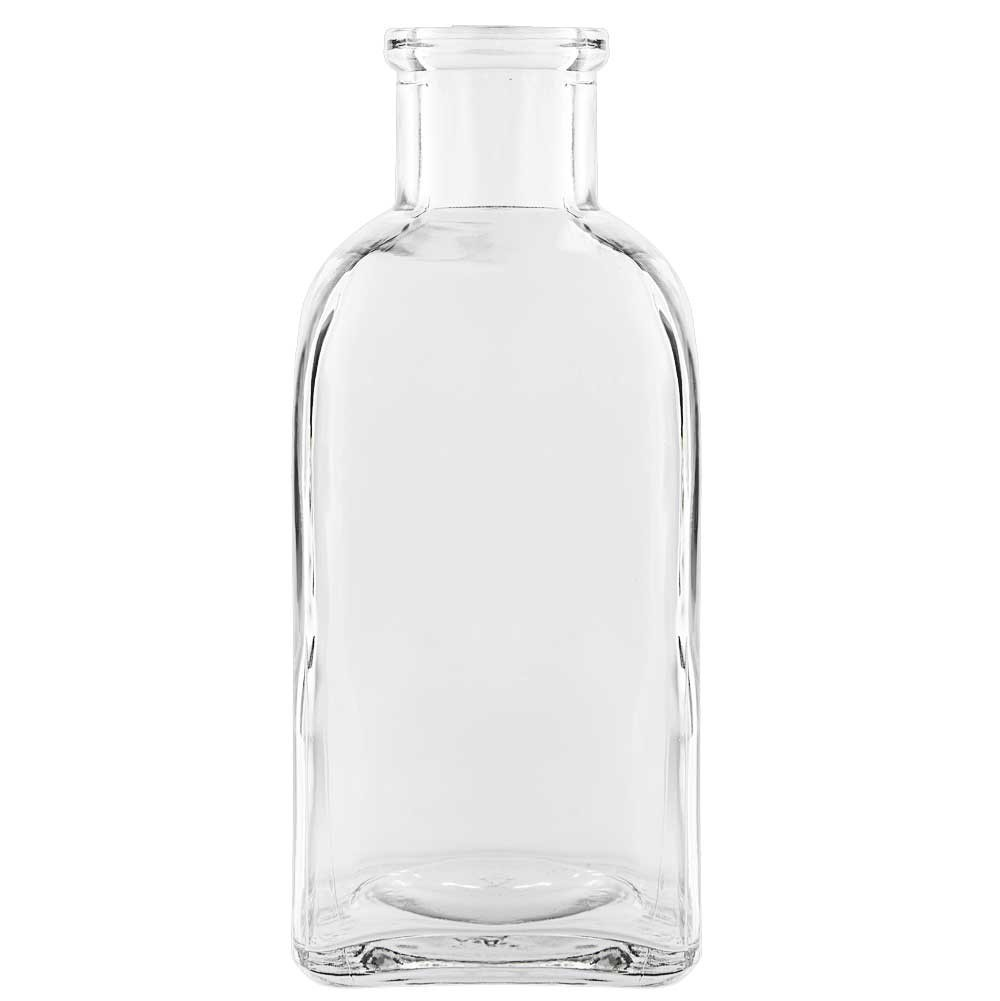container: (285, 15, 728, 1001)
